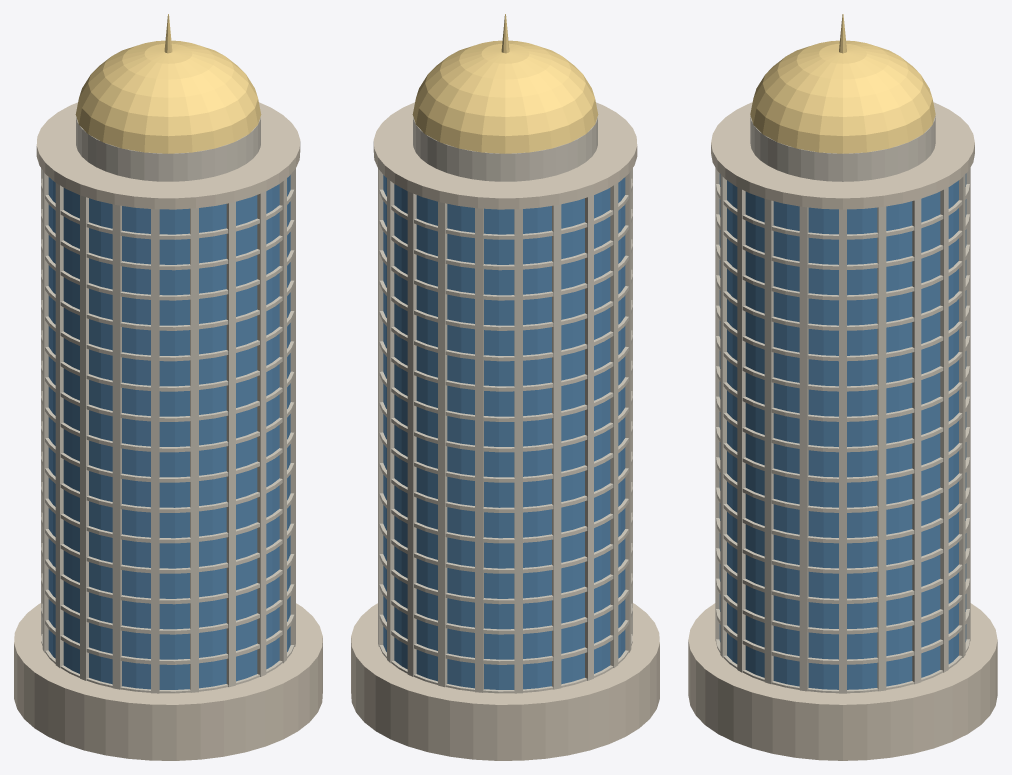
Rendered from lux_tower_b.glb.
3 views of the same model, side by side, from view 1: azimuth 30°, elevation 25°; view 2: azimuth 150°, elevation 25°; view 3: azimuth 270°, elevation 25° (orthographic).
Parts seen in each view (by area): view 1: glass, stone, stone_dark, gold; view 2: glass, stone, stone_dark, gold; view 3: glass, stone, stone_dark, gold.
Part boxes in pixels (x1,y1,x2,y2): glass: [48, 175, 290, 689]; stone: [41, 110, 295, 693]; stone_dark: [14, 102, 322, 760]; gold: [75, 14, 261, 153]; glass: [383, 175, 625, 689]; stone: [378, 110, 632, 693]; stone_dark: [351, 102, 659, 760]; gold: [412, 14, 598, 153]; glass: [719, 173, 966, 689]; stone: [715, 115, 970, 693]; stone_dark: [688, 102, 997, 760]; gold: [750, 14, 935, 153].
Size of the model in its own units: 30 by 72.95 by 30.
